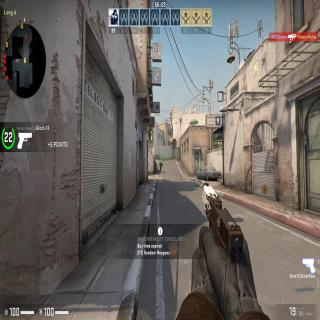CT-Body: (159, 161, 163, 172)
